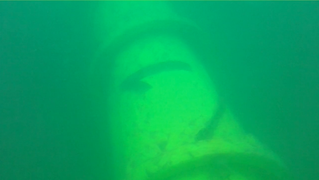1: (119, 60, 192, 93)
pipe: (87, 1, 292, 179)
